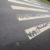zebra: (8, 1, 49, 39)
